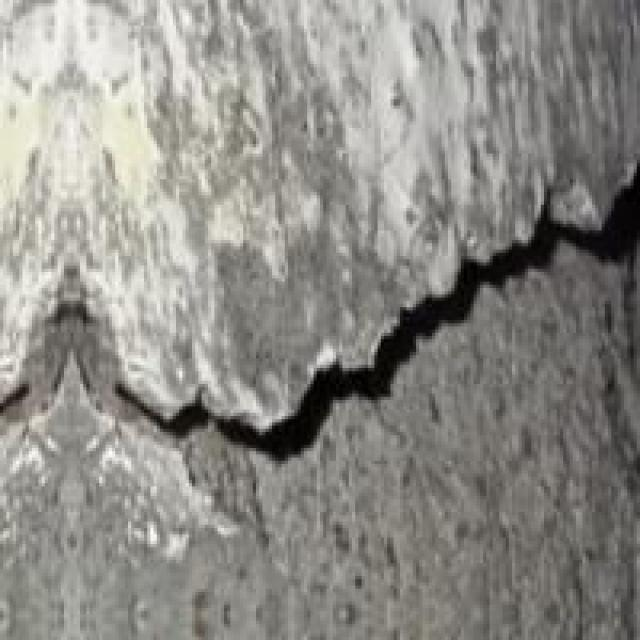crack: (0, 166, 637, 499)
